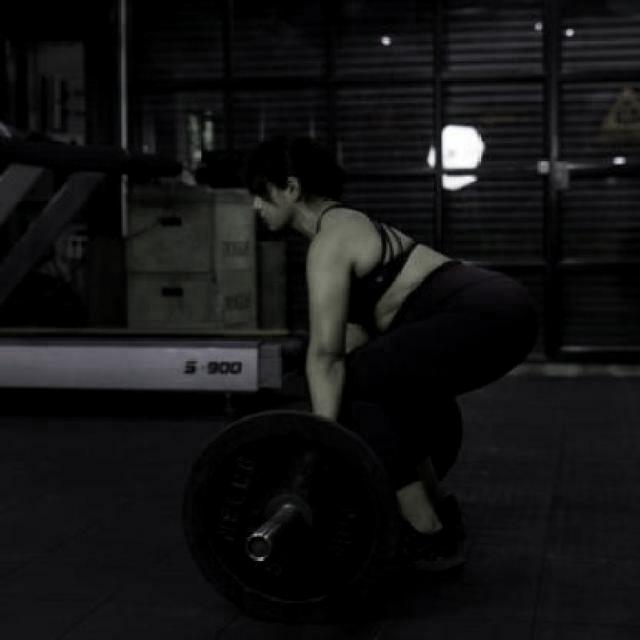barbell: (163, 404, 412, 632)
